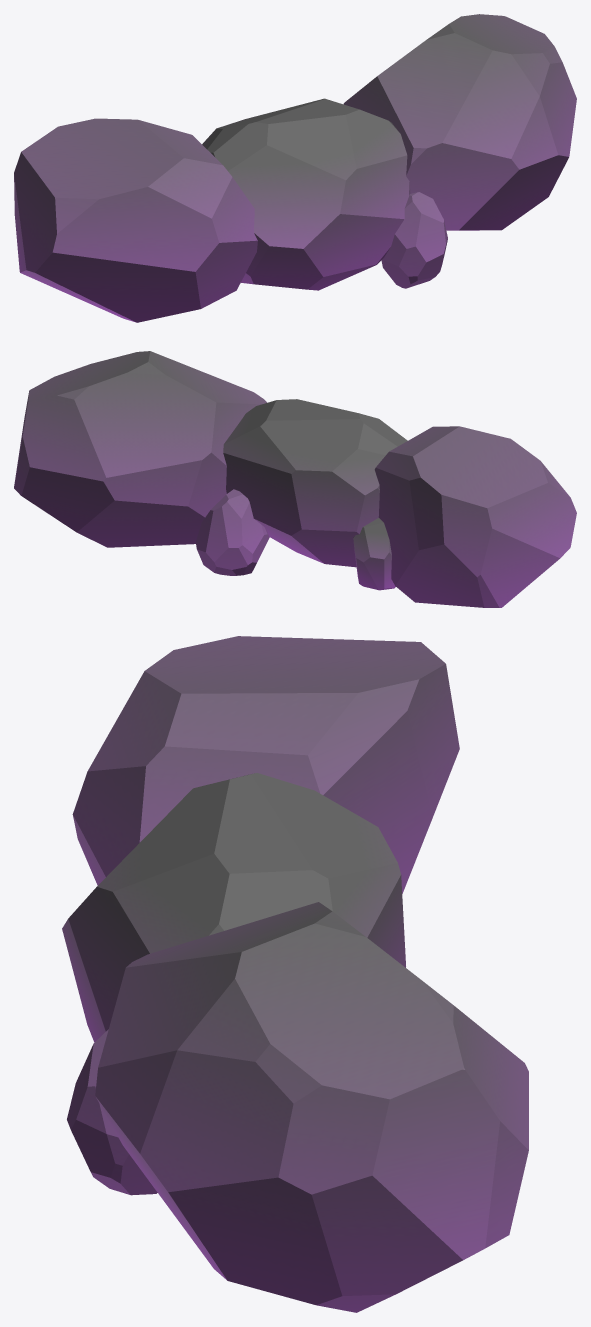
Rendered from rock4.fbx.
3 renders of one model, top to bottom at view 1: azimuth 30°, elevation 25°; view 2: azimuth 150°, elevation 25°; view 3: azimuth 270°, elevation 25°, orthographic. The views are drawn at different scales.
Visible parts, largest first — view 1: Sphere.038, Sphere.037, Sphere.036, Sphere.039; view 2: Sphere.037, Sphere.038, Sphere.036, Sphere.041, Sphere.040; view 3: Sphere.037, Sphere.038, Sphere.036, Sphere.039.
Boxes of the visible parts, x1=… form: Sphere.038: x1=14, y1=118, x2=257, y2=322; Sphere.037: x1=343, y1=14, x2=576, y2=230; Sphere.036: x1=202, y1=98, x2=410, y2=290; Sphere.039: x1=381, y1=192, x2=447, y2=288; Sphere.037: x1=14, y1=351, x2=266, y2=547; Sphere.038: x1=374, y1=426, x2=576, y2=607; Sphere.036: x1=223, y1=399, x2=407, y2=567; Sphere.041: x1=195, y1=489, x2=269, y2=575; Sphere.040: x1=353, y1=518, x2=395, y2=590; Sphere.037: x1=95, y1=902, x2=528, y2=1312; Sphere.038: x1=72, y1=636, x2=459, y2=893; Sphere.036: x1=62, y1=773, x2=405, y2=1042; Sphere.039: x1=67, y1=1029, x2=157, y2=1195.
Bounding box in the file's own units: 341 × 111 × 135.
